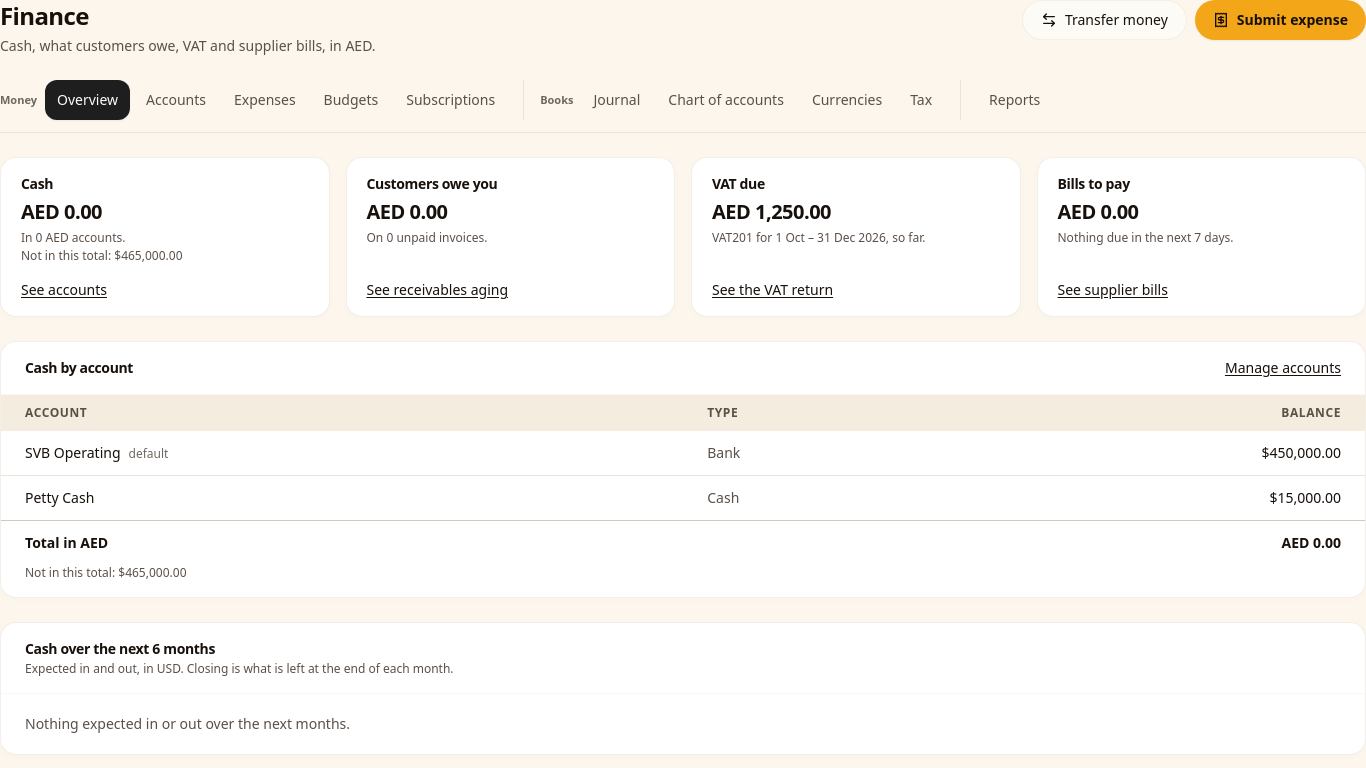
Scenario: Finance Routes & Views Suite › FinanceOverviewView (/finance) › opens transfer funds modal from header quick action
Click the button with test id "overview-quick-transfer-btn": (1104, 20) [1022, 0, 1187, 40]
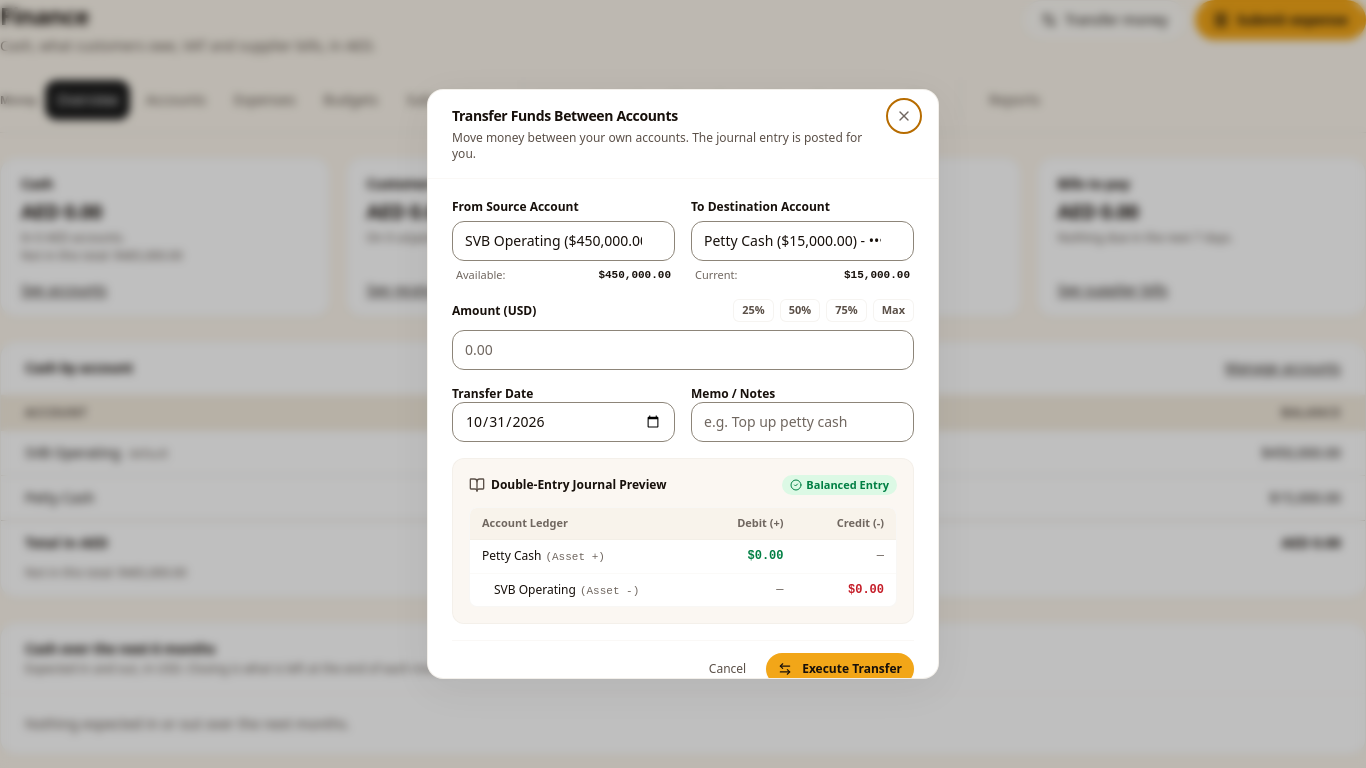
Now the heading "Transfer Funds Between Accounts" is shown, box [452, 106, 678, 125]
